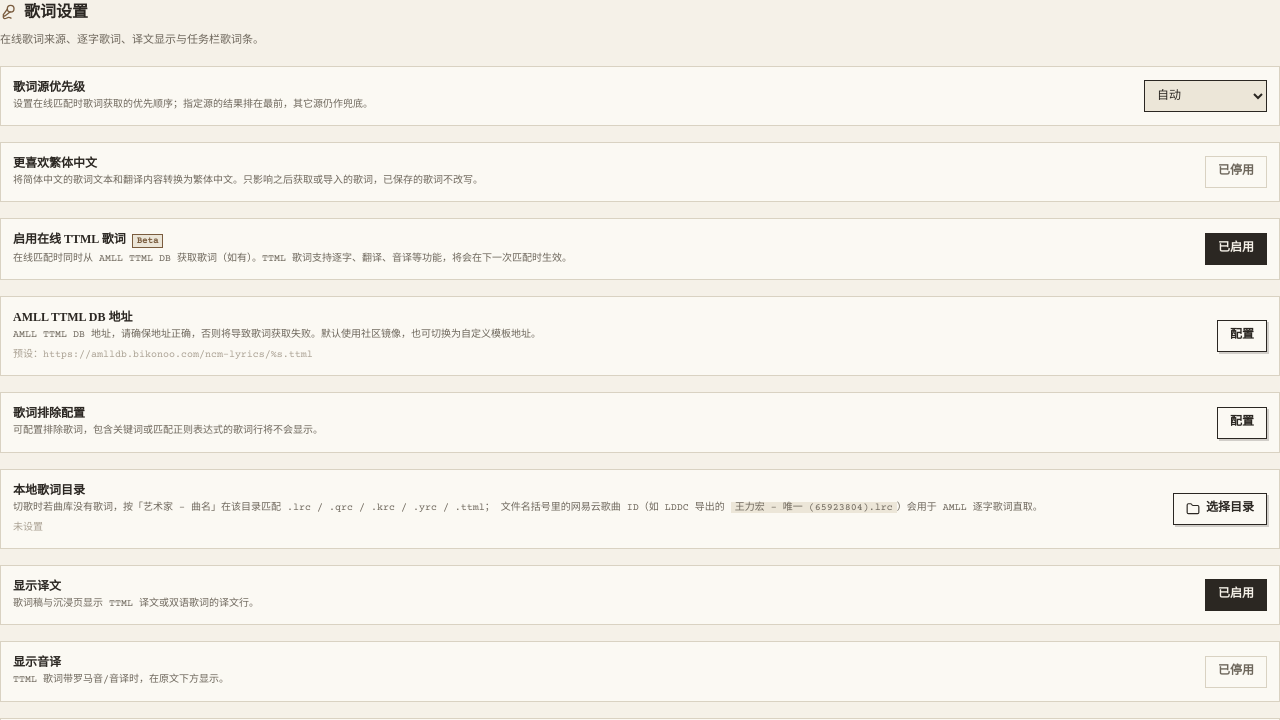
Scenario: 歌词设置标签页 › AMLL 地址弹窗：非 Tauri 环境「测试连接」禁用
Click the button "配置" in the row of "预设" at [1242, 336], box top-left (1217, 320), bottom-right (1267, 352)
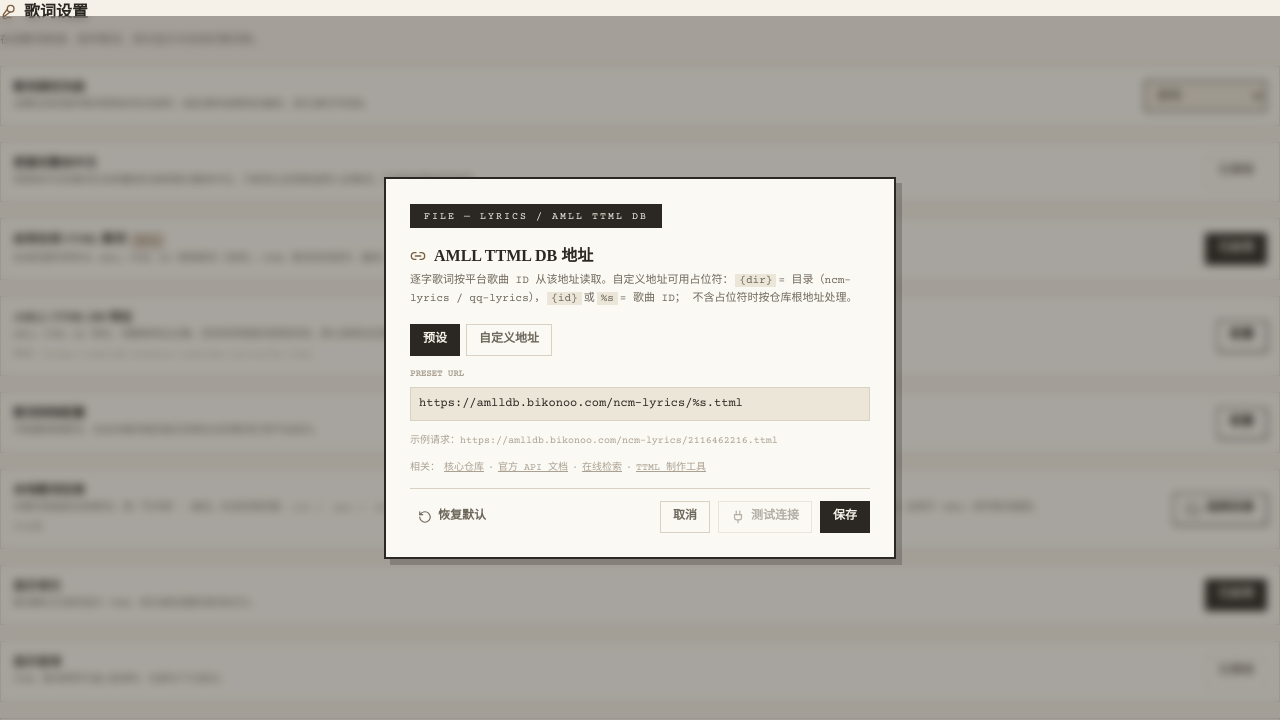
Expected: the button "测试连接" is disabled, top-left (718, 501), bottom-right (812, 533)
